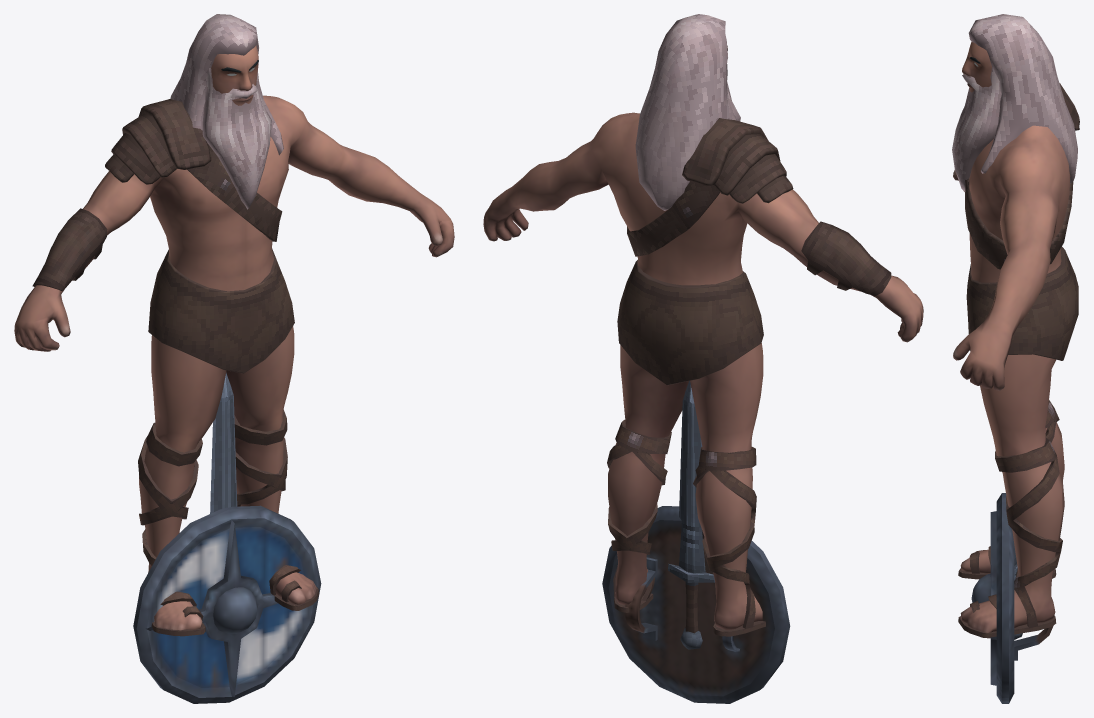
File: Character_Main.fbx
3 renders of one model, left to right at view 1: azimuth 30°, elevation 25°; view 2: azimuth 150°, elevation 25°; view 3: azimuth 270°, elevation 25°, orthographic.
Parts seen in each view (by area): view 1: Body, Shield, Skirt, Shoulder, Sandals, Beard, Hair, Bracer, Sword; view 2: Body, Shield, Skirt, Hair, Shoulder, Sandals, Sword, Bracer; view 3: Body, Hair, Skirt, Sandals, Shield, Beard, Shoulder.
Boxes of the visible parts, x1=… form: Body: x1=14, y1=45, x2=454, y2=630; Shield: x1=133, y1=505, x2=321, y2=703; Skirt: x1=148, y1=248, x2=294, y2=373; Shoulder: x1=105, y1=99, x2=282, y2=241; Sandals: x1=138, y1=410, x2=319, y2=636; Beard: x1=202, y1=68, x2=271, y2=209; Hair: x1=170, y1=14, x2=283, y2=155; Bracer: x1=32, y1=208, x2=107, y2=290; Sword: x1=210, y1=373, x2=237, y2=513; Body: x1=483, y1=46, x2=923, y2=630; Shield: x1=602, y1=506, x2=790, y2=703; Skirt: x1=617, y1=260, x2=763, y2=385; Hair: x1=635, y1=14, x2=736, y2=210; Shoulder: x1=627, y1=118, x2=793, y2=256; Sandals: x1=607, y1=419, x2=765, y2=636; Sword: x1=668, y1=381, x2=714, y2=649; Bracer: x1=801, y1=221, x2=891, y2=295; Body: x1=953, y1=41, x2=1070, y2=632; Hair: x1=968, y1=14, x2=1077, y2=183; Skirt: x1=966, y1=246, x2=1078, y2=360; Sandals: x1=958, y1=400, x2=1062, y2=638; Shield: x1=971, y1=493, x2=1053, y2=703; Beard: x1=952, y1=67, x2=1001, y2=191; Shoulder: x1=965, y1=83, x2=1079, y2=269.
Size of the model in its own units: 140 by 211 by 36.19.
Materials: 10 (9 with a texture image).
